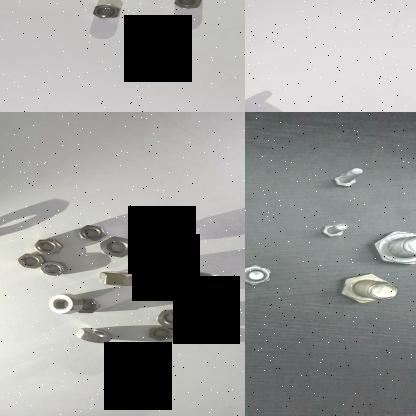Bolts: (336, 270, 411, 310), (370, 224, 416, 266), (328, 164, 372, 192), (318, 220, 354, 241), (245, 262, 277, 284)
NUTS: (154, 221, 198, 247), (182, 270, 226, 294), (151, 306, 197, 328), (99, 233, 139, 258), (96, 268, 146, 288), (142, 320, 179, 344), (46, 292, 82, 314), (74, 325, 115, 343), (142, 230, 172, 254), (92, 2, 126, 21), (200, 300, 228, 322), (30, 236, 64, 254), (77, 224, 108, 242), (15, 250, 45, 268), (76, 297, 104, 316), (38, 260, 66, 276), (171, 0, 207, 12)
